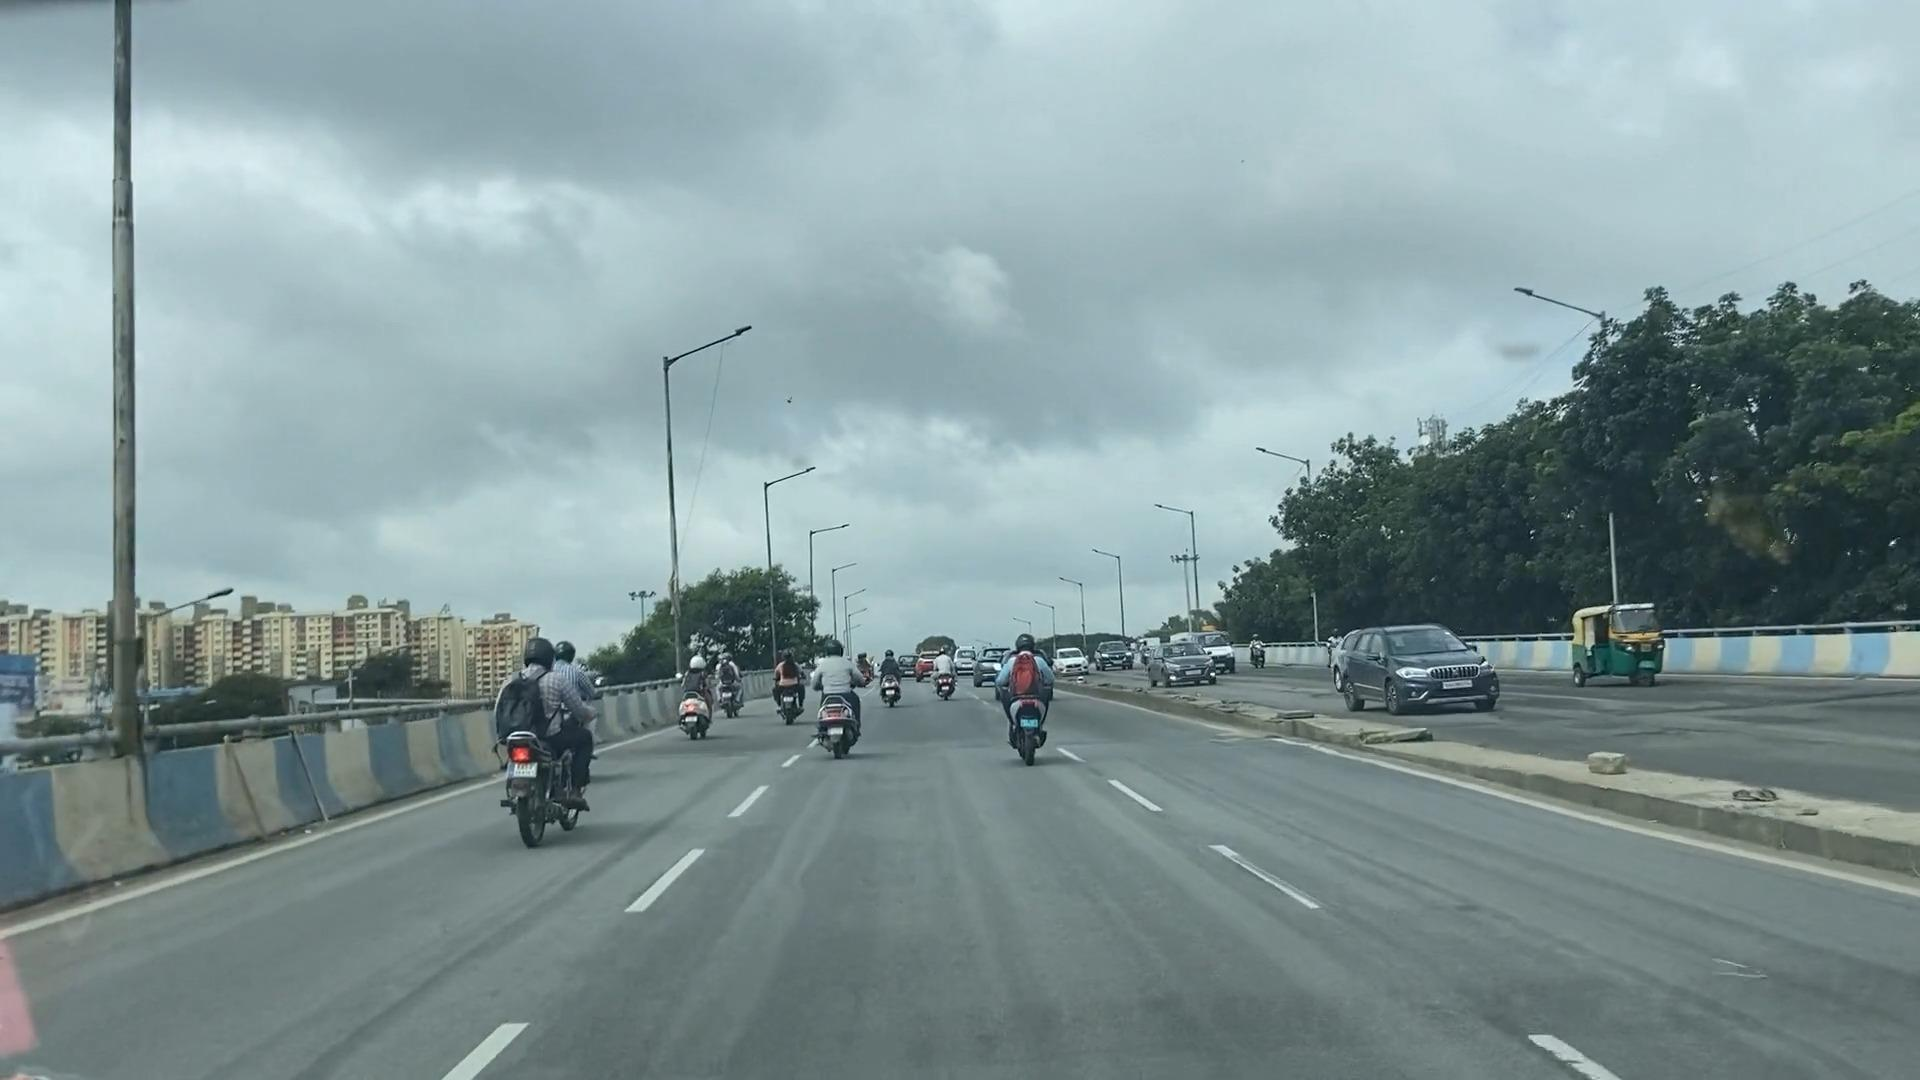LMV: (483, 620, 588, 836), (816, 642, 862, 761), (1011, 636, 1052, 760), (678, 647, 725, 752), (771, 642, 803, 732)
